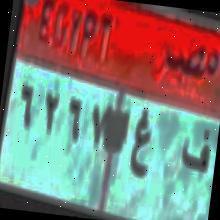2: (38, 88, 61, 142)
6: (64, 92, 84, 146), (16, 80, 36, 132)
7: (86, 99, 111, 151)
faa: (178, 122, 214, 184)
ghayn: (124, 105, 157, 190)
